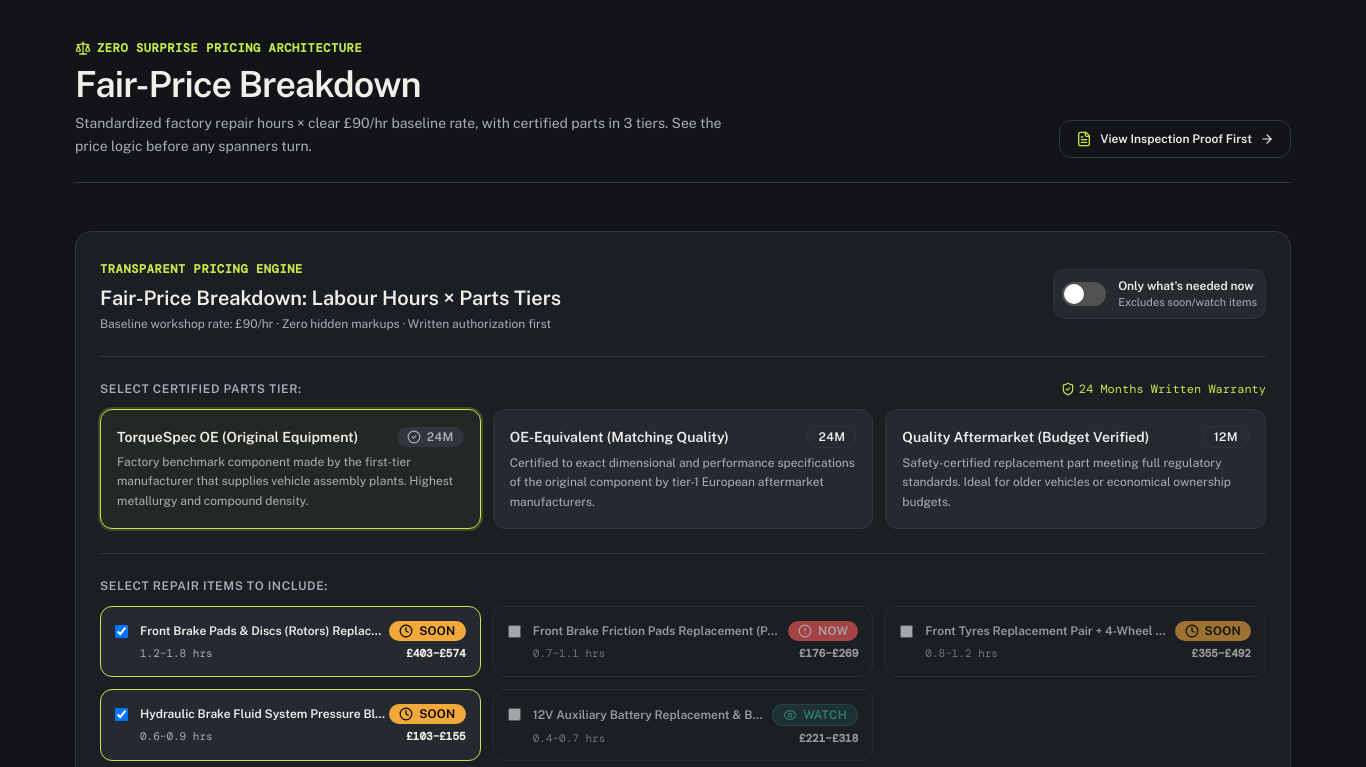
Test case: Fair-Price Breakdown (Feature 04) › toggles "Only what is needed now" switch to recalculate subtotal without non-urgent items
Note: Click switch
Click the switch named "Only what's needed now". click: (1084, 294)
box: [1062, 282, 1106, 306]
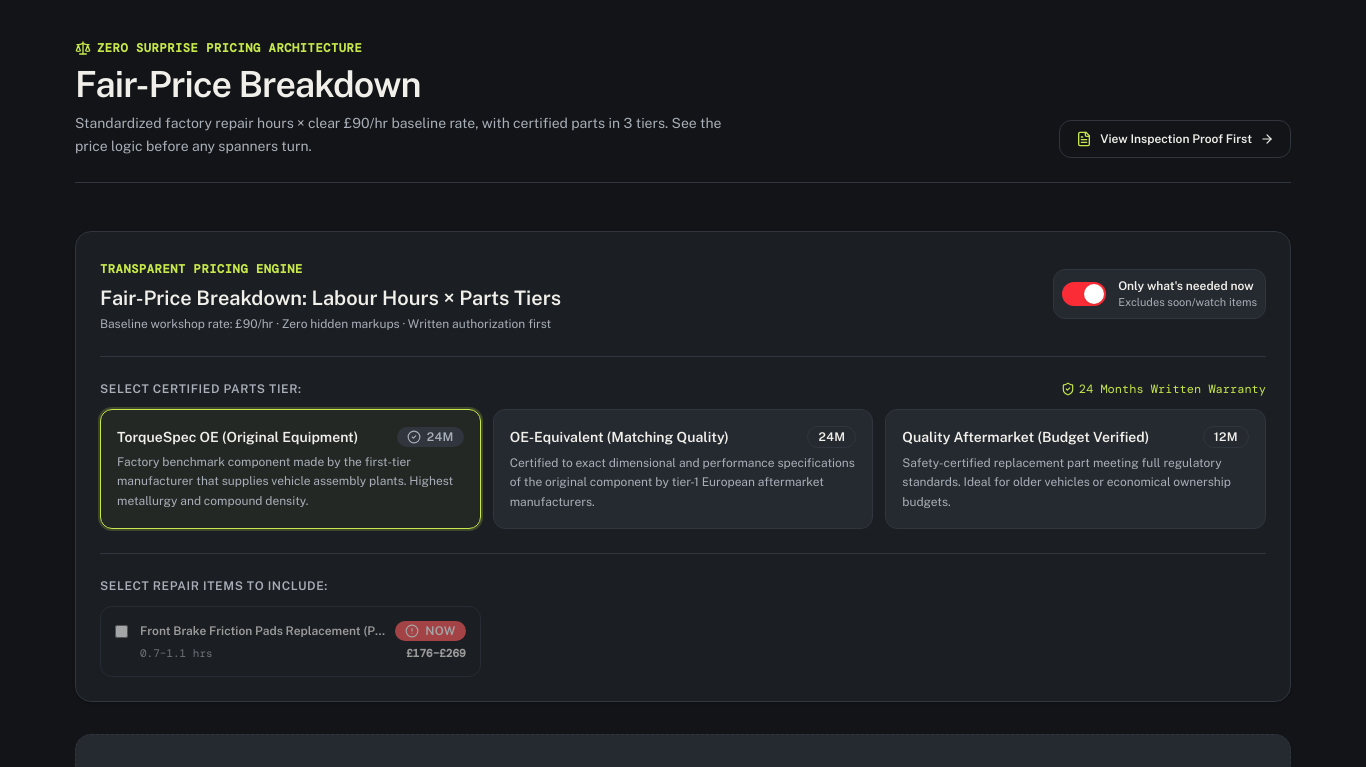
Now the text "Hydraulic Brake Fluid System Pressure Bleed" is gone
